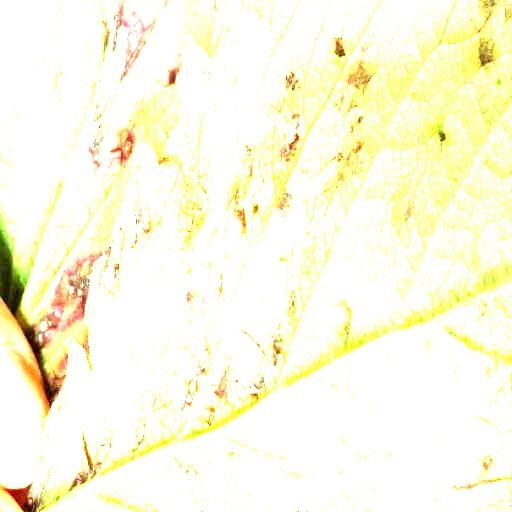Angular Leafspot: (21, 0, 511, 511)
